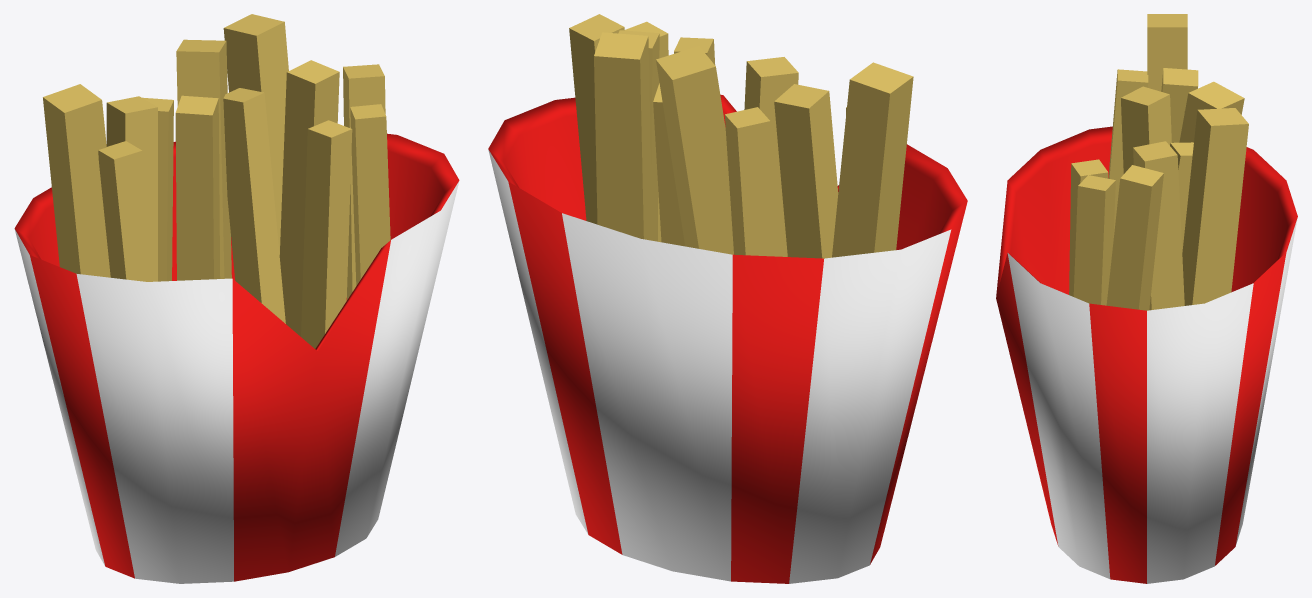
File: Fries.fbx
3 renders of one model, left to right at view 1: azimuth 30°, elevation 25°; view 2: azimuth 150°, elevation 25°; view 3: azimuth 270°, elevation 25°, orthographic. The views are drawn at different scales.
Visible parts, largest first — view 1: Fries; view 2: Fries; view 3: Fries.
Part boxes in pixels (left/top/right/bottom): Fries: left=14, top=14, right=459, bottom=583; Fries: left=488, top=14, right=967, bottom=583; Fries: left=996, top=14, right=1297, bottom=583.
Bounding box in the file's own units: 9.04 × 9.74 × 6.12.
